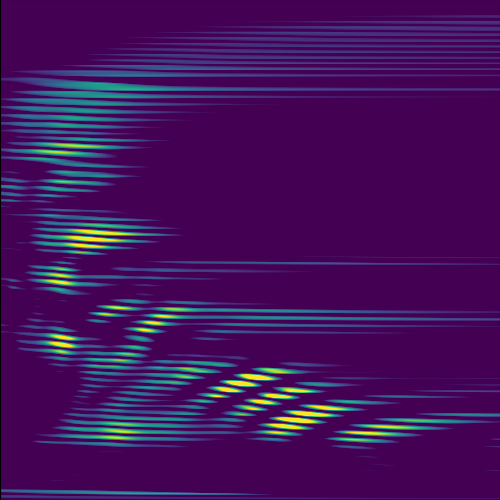semblance: (257, 397, 349, 444), (201, 357, 292, 401), (234, 378, 320, 419), (60, 222, 141, 257), (339, 416, 423, 445), (134, 302, 186, 339), (32, 138, 106, 162), (94, 289, 131, 326), (173, 365, 213, 382)
